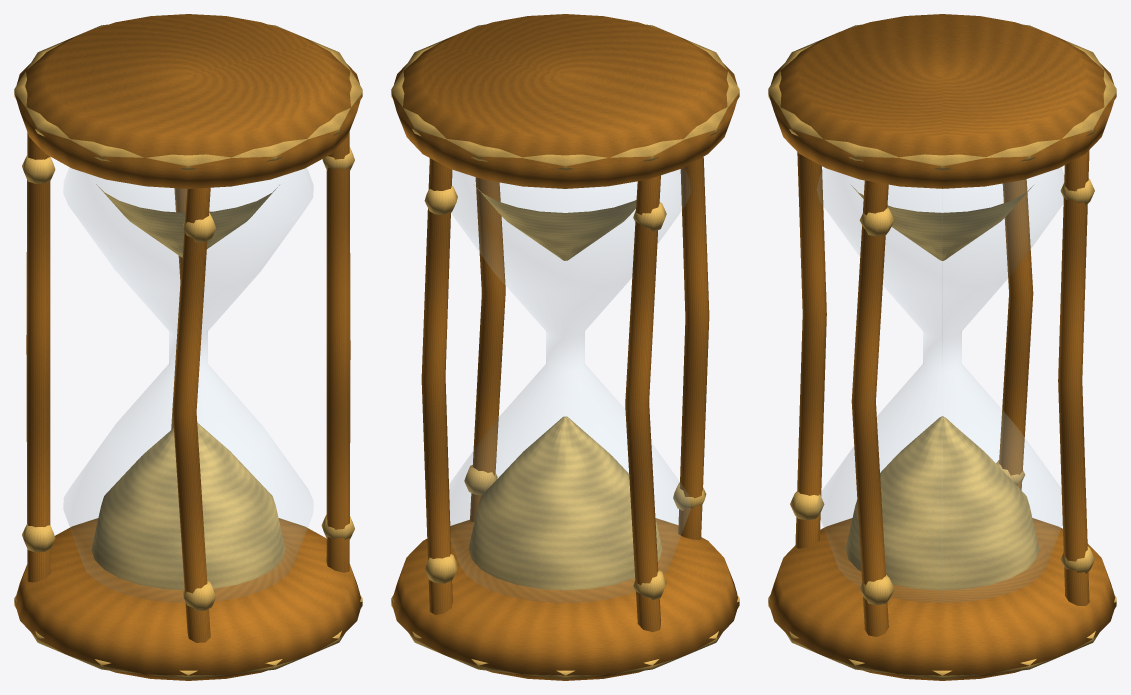
The model's file is phantom_hourglass.glb.
3 renders of one model, left to right at view 1: azimuth 30°, elevation 25°; view 2: azimuth 150°, elevation 25°; view 3: azimuth 270°, elevation 25°, orthographic.
Visible parts, largest first — view 1: Engraved hourglass foot (×2), Clear hourglass bulbs, Twisted hourglass pillar (×4), Lower sand heap, Foot polished lip (×2), Upper retained sand, Pillar joint (×4); view 2: Engraved hourglass foot (×2), Clear hourglass bulbs, Twisted hourglass pillar (×4), Lower sand heap, Foot polished lip (×2), Upper retained sand, Pillar joint (×5); view 3: Engraved hourglass foot (×2), Clear hourglass bulbs, Twisted hourglass pillar (×4), Lower sand heap, Foot polished lip (×2), Upper retained sand, Pillar joint (×3).
Boxes of the visible parts, x1,y1,x2,y2 form: Engraved hourglass foot (×2): (14, 14, 362, 680); Clear hourglass bulbs: (64, 167, 312, 602); Twisted hourglass pillar (×4): (26, 132, 350, 642); Lower sand heap: (91, 423, 285, 589); Foot polished lip (×2): (14, 24, 362, 679); Upper retained sand: (96, 184, 279, 257); Pillar joint (×4): (22, 155, 215, 610); Engraved hourglass foot (×2): (391, 14, 739, 680); Clear hourglass bulbs: (449, 167, 689, 602); Twisted hourglass pillar (×4): (421, 156, 709, 631); Lower sand heap: (468, 416, 662, 590); Foot polished lip (×2): (391, 24, 739, 679); Upper retained sand: (474, 185, 636, 260); Pillar joint (×5): (424, 186, 666, 600); Engraved hourglass foot (×2): (768, 14, 1116, 680); Clear hourglass bulbs: (817, 168, 1063, 602); Twisted hourglass pillar (×4): (795, 150, 1089, 636); Lower sand heap: (845, 416, 1039, 590); Foot polished lip (×2): (768, 24, 1116, 679); Upper retained sand: (851, 185, 1033, 260); Pillar joint (×3): (790, 207, 894, 604).
Size of the model in its own units: 23.4 by 40.29 by 23.4.
4 materials, 3 textured.
